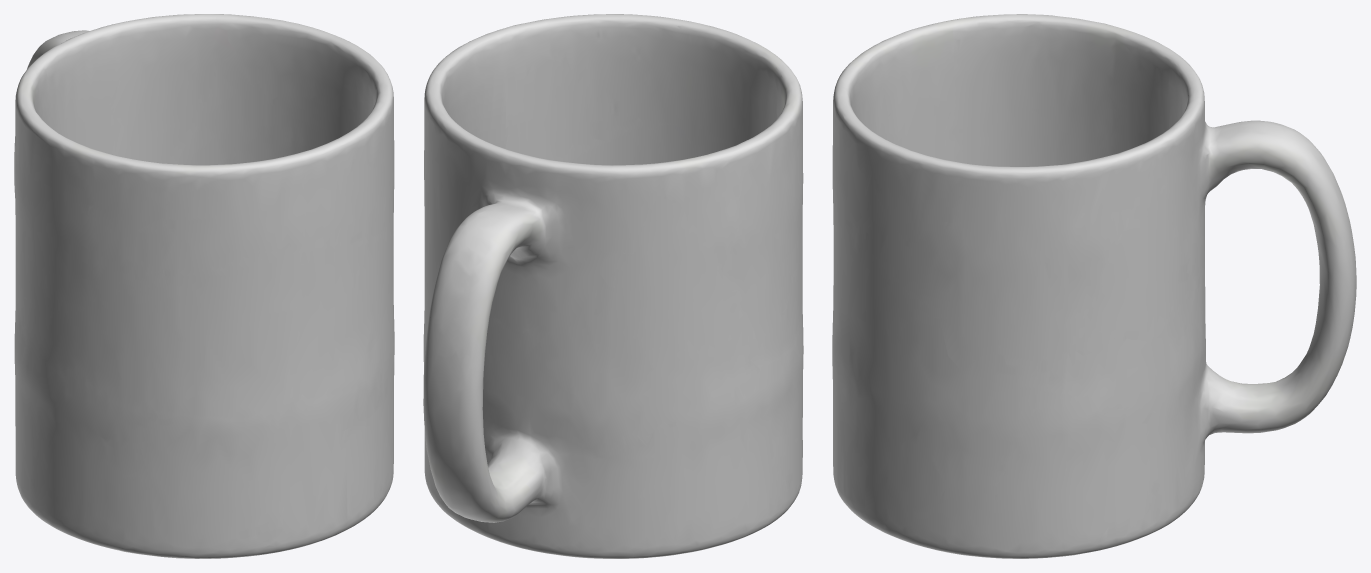
Rendered from mug.glb.
The picture shows the model from 3 angles, left to right: view 1: azimuth 30°, elevation 25°; view 2: azimuth 150°, elevation 25°; view 3: azimuth 270°, elevation 25°; orthographic projection.
Parts seen in each view (by area): view 1: tripo_node_92c29a17-72aa-464b-a7dd-d75edb799f96; view 2: tripo_node_92c29a17-72aa-464b-a7dd-d75edb799f96; view 3: tripo_node_92c29a17-72aa-464b-a7dd-d75edb799f96.
Boxes of the visible parts, left/top/right/bottom form: tripo_node_92c29a17-72aa-464b-a7dd-d75edb799f96: left=14, top=14, right=394, bottom=558; tripo_node_92c29a17-72aa-464b-a7dd-d75edb799f96: left=423, top=14, right=803, bottom=558; tripo_node_92c29a17-72aa-464b-a7dd-d75edb799f96: left=832, top=14, right=1356, bottom=558.
Bounding box in the file's own units: 0.7268 × 0.8188 × 1.
1 material, 1 textured.
